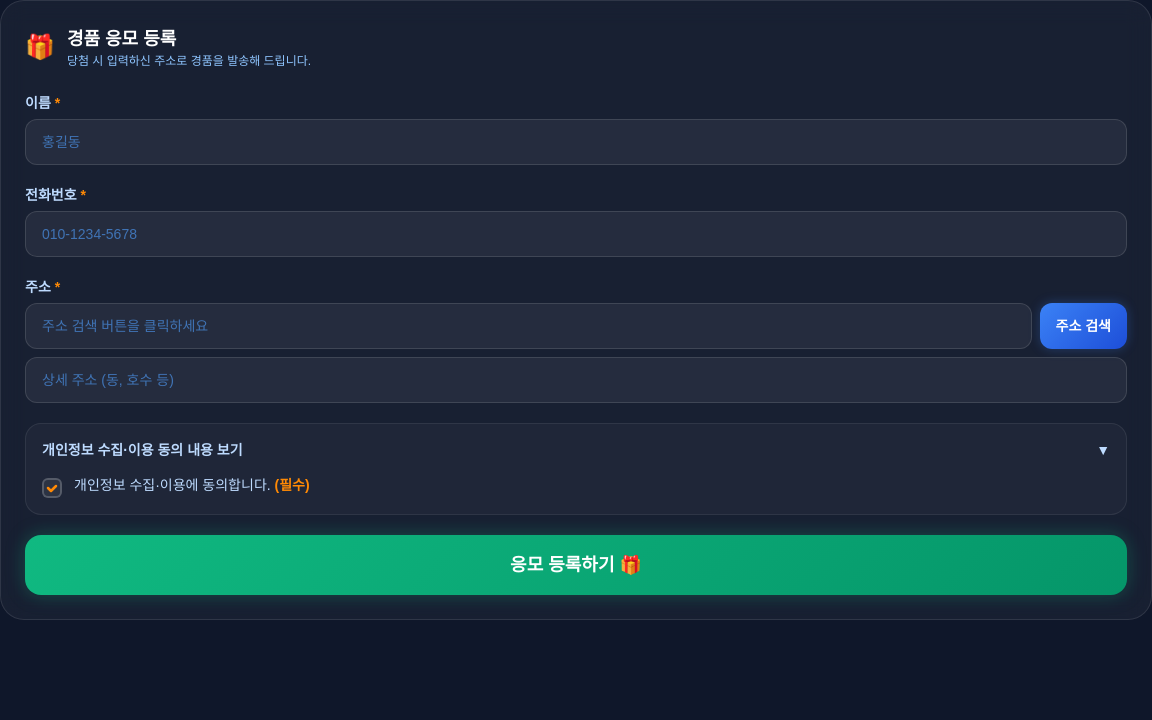
ParticipantForm › 숫자 입력 시 010-XXXX-XXXX 형식으로 자동 포맷된다
The image size is (1152, 720).
In the field labelled "전화번호 *": point(576, 234) x1=25 y1=211 x2=1127 y2=257, type "01012345678"
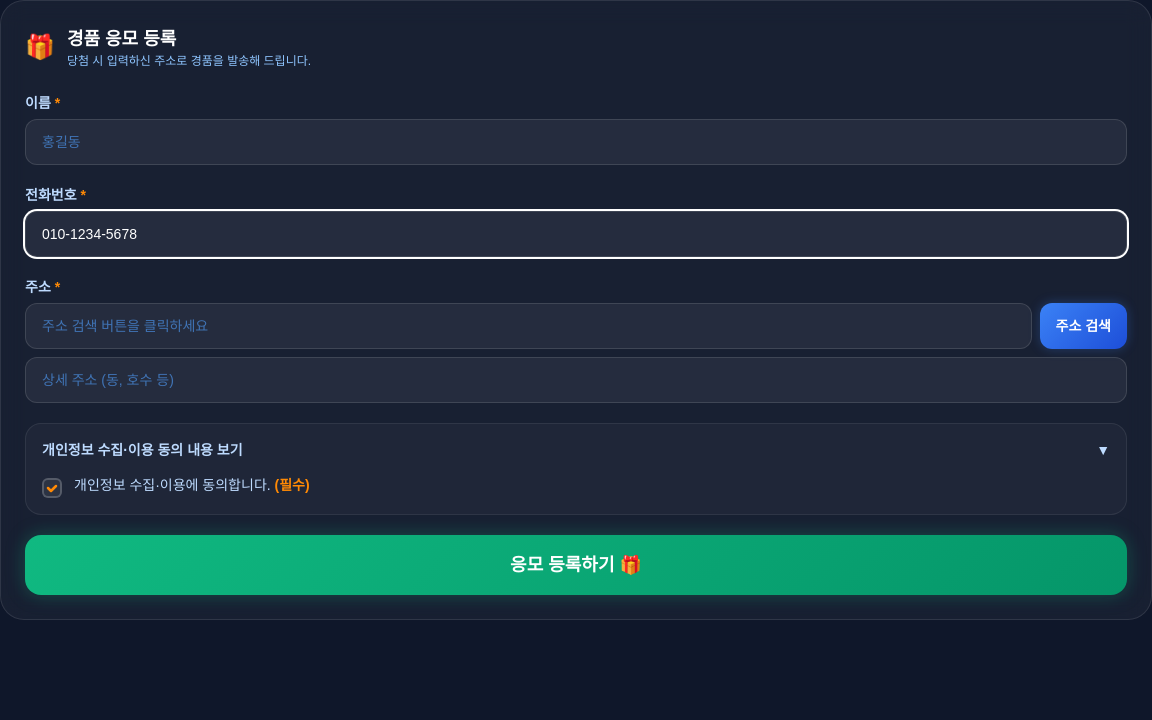
Now the field labelled "전화번호 *" holds "010-1234-5678", box x1=25 y1=211 x2=1127 y2=257
